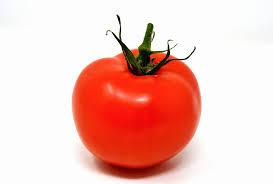tomato: (75, 47, 200, 170)
